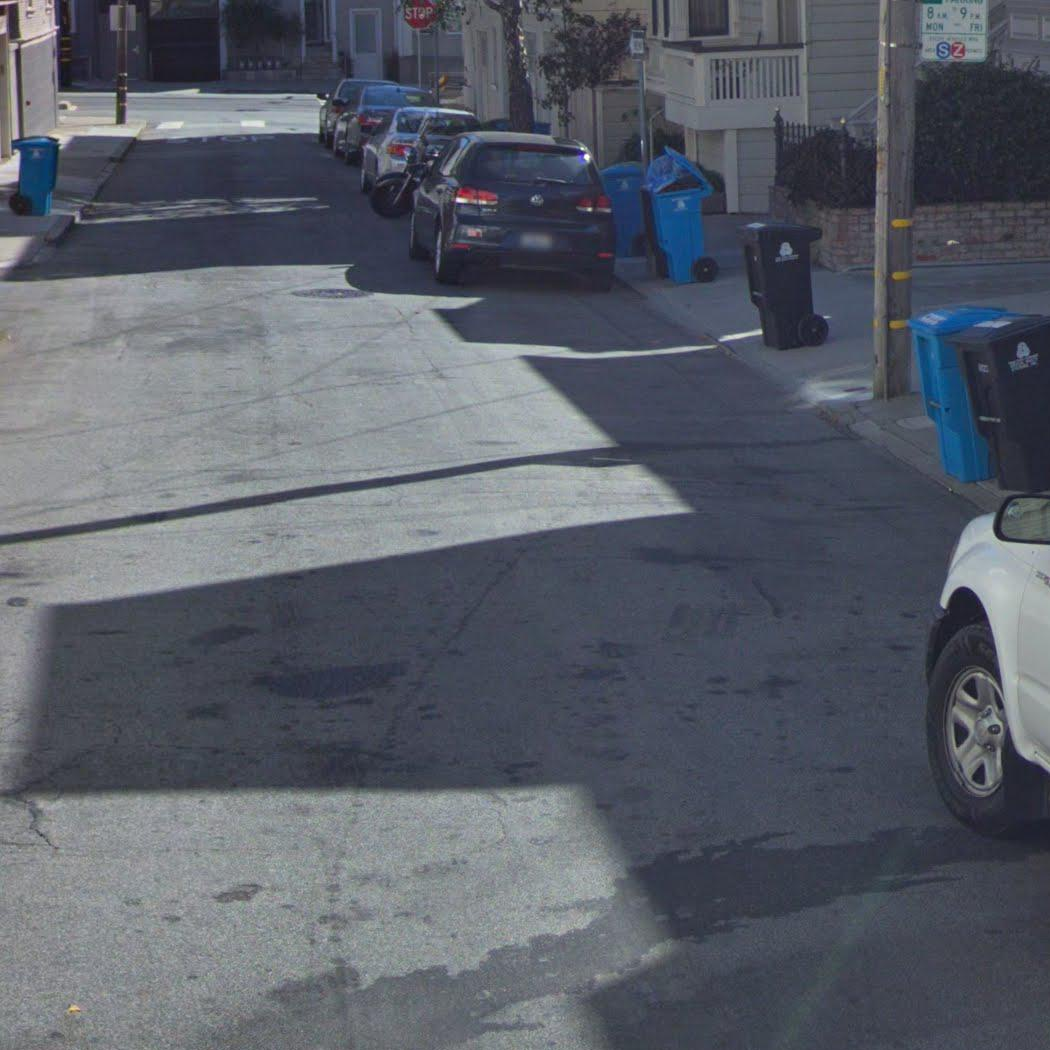2 Hour Parking: (919, 0, 989, 64)
